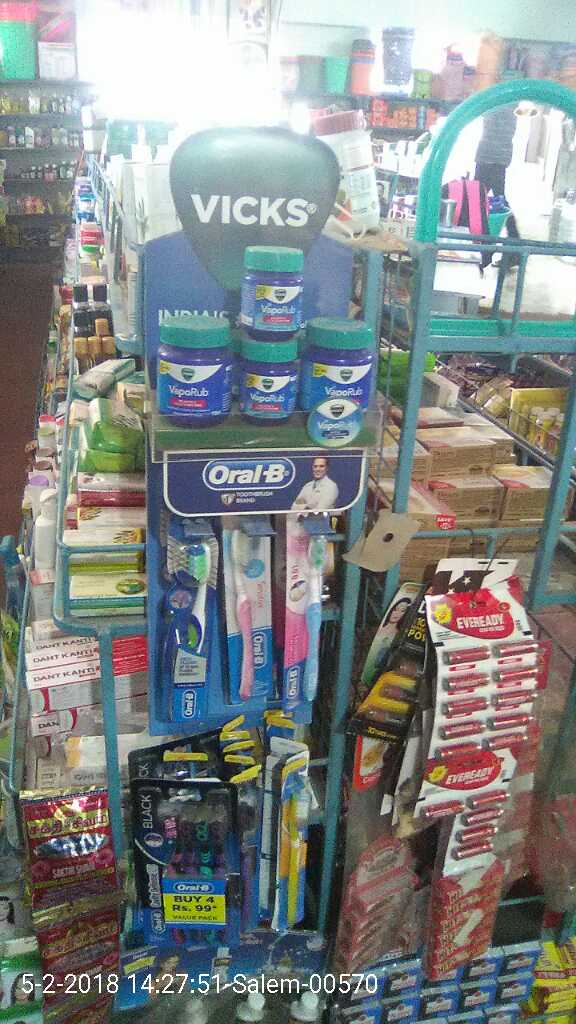pharmacy: (143, 239, 379, 421), (148, 527, 219, 707), (229, 541, 285, 701), (298, 527, 335, 723)
